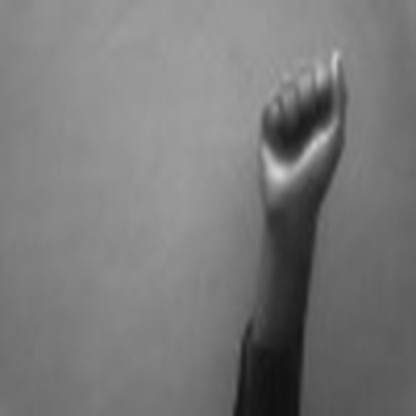a: (248, 39, 357, 222)
